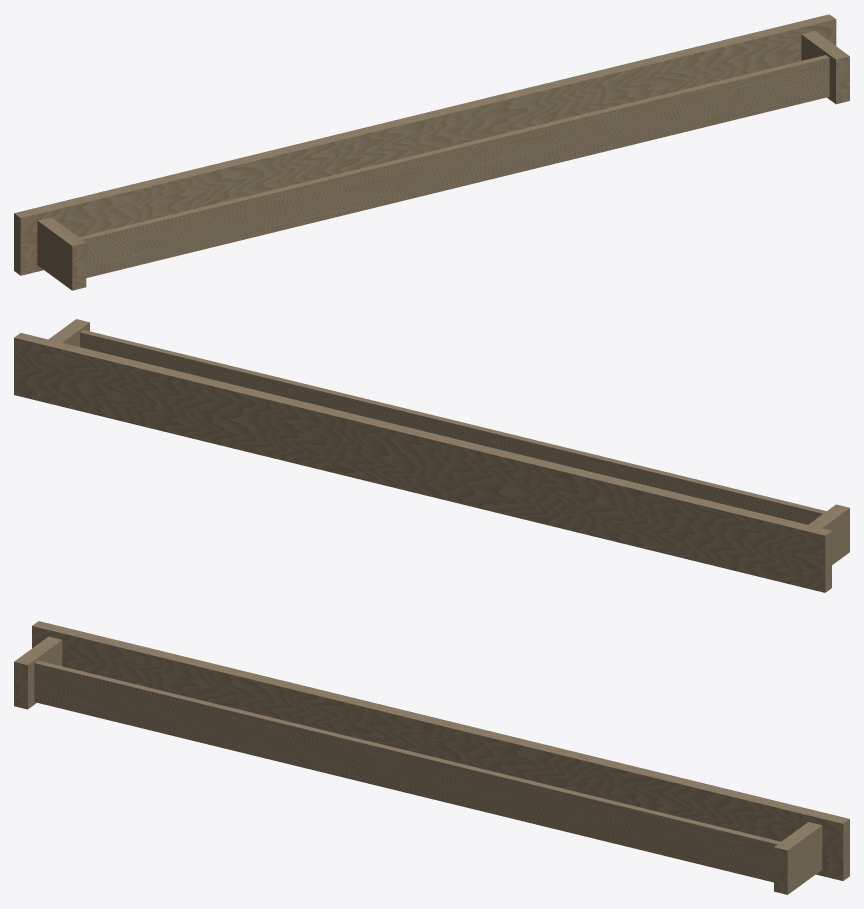
3 views of the same model, one above another, from view 1: azimuth 30°, elevation 25°; view 2: azimuth 150°, elevation 25°; view 3: azimuth 330°, elevation 25° (orthographic).
Visible parts, largest first — view 1: Cube.001; view 2: Cube.001; view 3: Cube.001.
Boxes of the visible parts, x1=… form: Cube.001: x1=14, y1=14, x2=849, y2=290; Cube.001: x1=14, y1=319, x2=849, y2=592; Cube.001: x1=14, y1=621, x2=849, y2=894.
Bounding box in the file's own units: 400 × 27 × 35.31.
